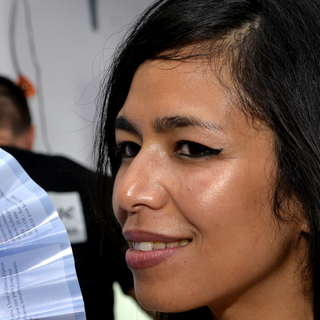eye: (166, 136, 221, 164)
